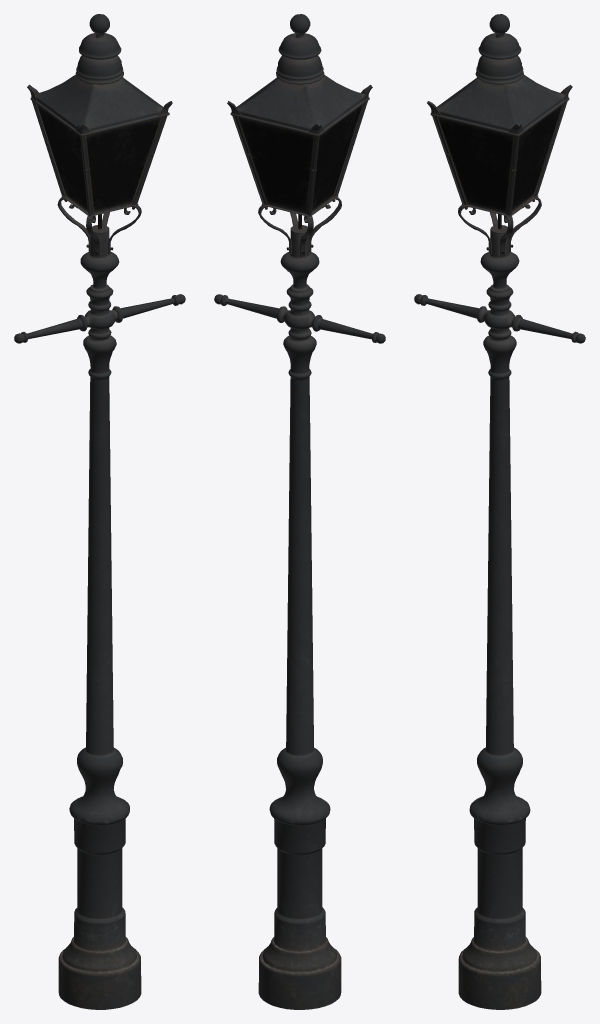
File: street_lamp_01.glb
The picture shows the model from 3 angles, left to right: view 1: azimuth 30°, elevation 25°; view 2: azimuth 150°, elevation 25°; view 3: azimuth 330°, elevation 25°; orthographic projection.
Parts seen in each view (by area): view 1: street_lamp_01; view 2: street_lamp_01; view 3: street_lamp_01.
Part boxes in pixels (bbox=[...]): street_lamp_01: bbox=[14, 14, 185, 1009]; street_lamp_01: bbox=[214, 14, 385, 1009]; street_lamp_01: bbox=[414, 14, 585, 1009].
Bounding box in the file's own units: 0.7034 × 3.87 × 0.3857.
3 materials, 3 textured.
